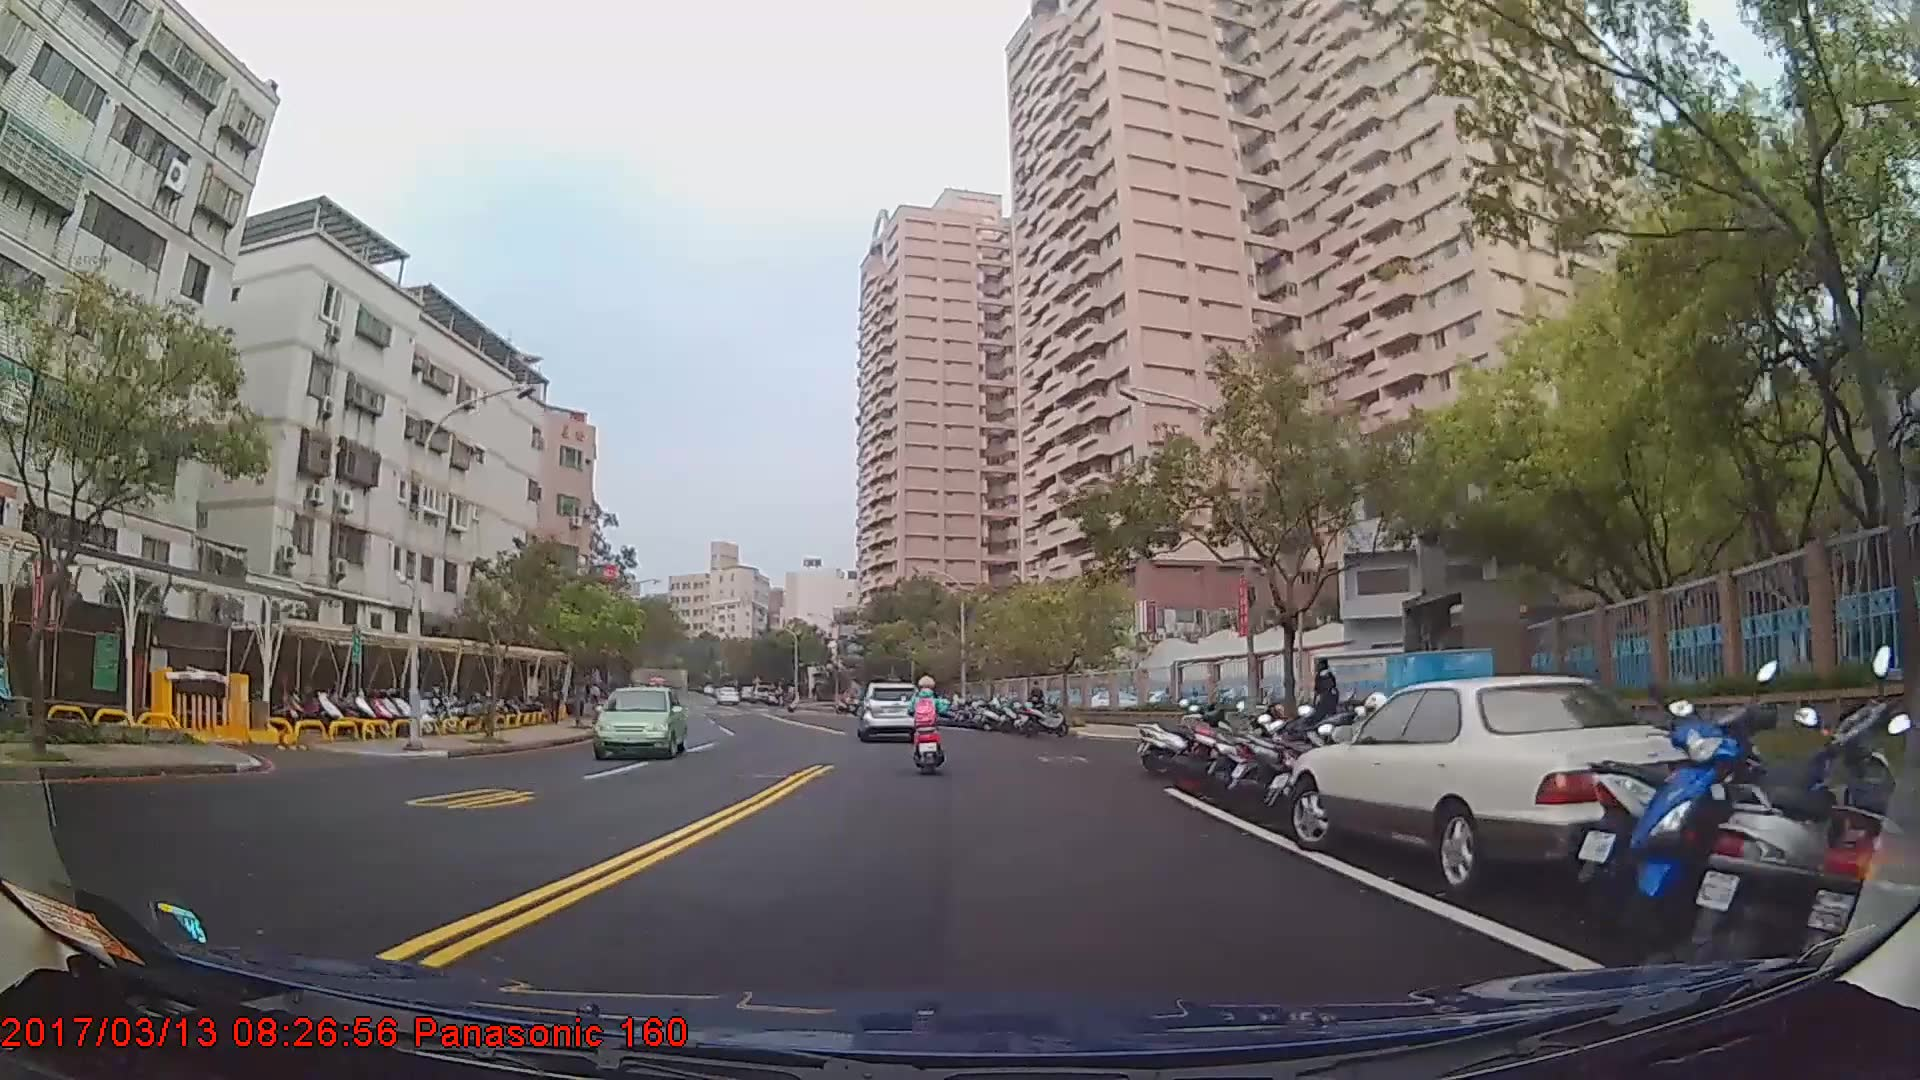pedestrian: (1308, 656, 1340, 752), (1027, 681, 1047, 728)
rider: (908, 675, 951, 779)
vehicle: (1292, 672, 1771, 896), (591, 686, 685, 760), (859, 680, 926, 742)
